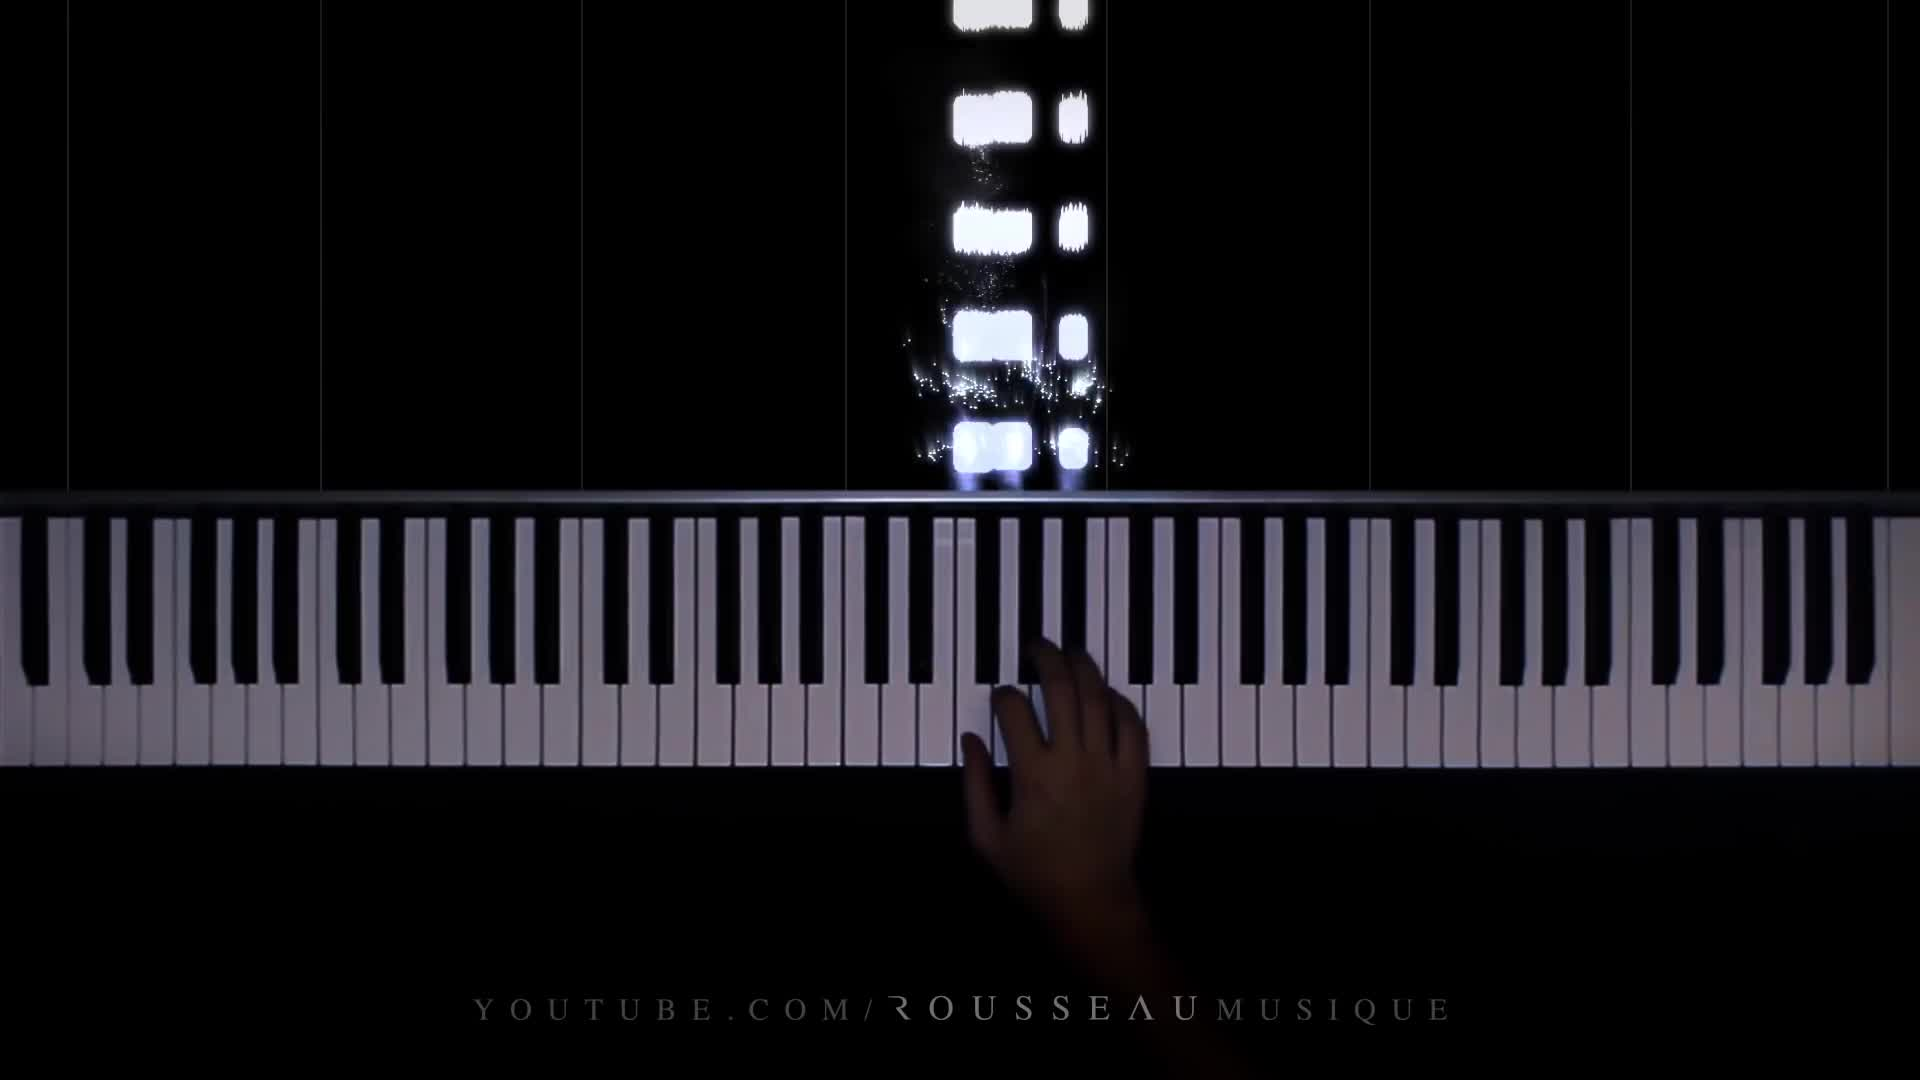right: (967, 629, 1153, 902)
